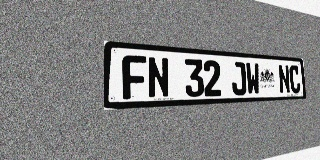2: (203, 60, 221, 96)
3: (185, 59, 204, 97)
C: (289, 65, 301, 93)
F: (122, 55, 147, 99)
J: (231, 61, 247, 95)
N: (147, 56, 170, 98), (278, 64, 290, 94)
W: (245, 62, 260, 95)
